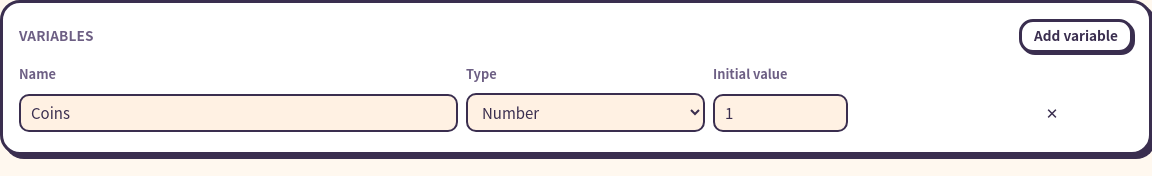
Test: VariablesView › refuses an out-of-range number with a message and keeps the old value
Replace the text in the field named "Initial value of coins" with "5000000" at (780, 113), box [713,94,848,132]
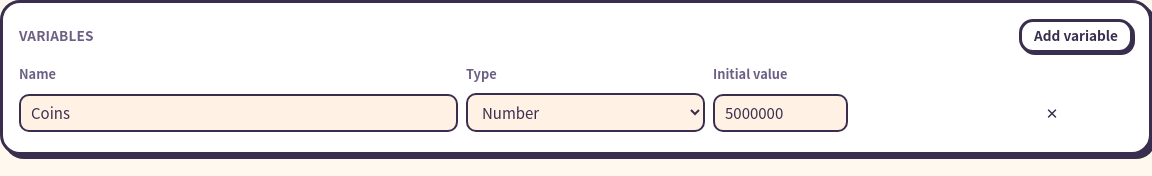
Leave the field named "Initial value of coins", box [713,94,848,132]
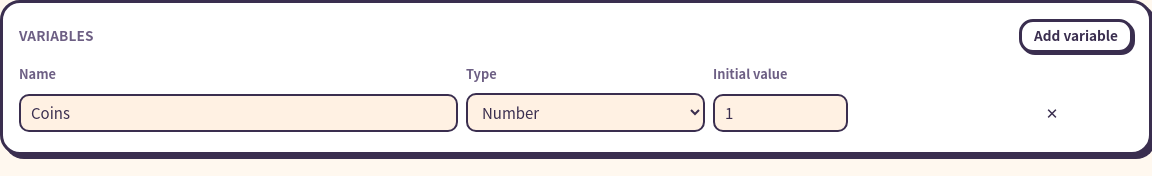
Expected: the field named "Initial value of coins" holds "1", [713,94,848,132]
